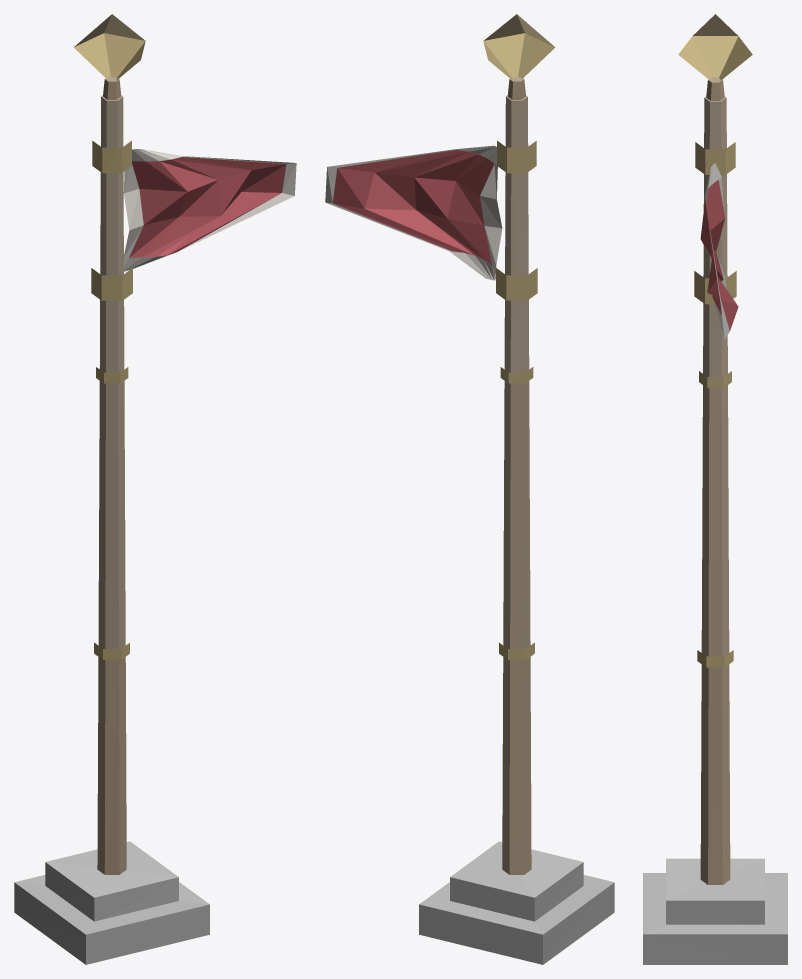
Rendered from flag.pennant.lingqi__pole.ground.gaogan__masthead.glb.
3 views of the same model, side by side, from view 1: azimuth 30°, elevation 25°; view 2: azimuth 150°, elevation 25°; view 3: azimuth 270°, elevation 25° (orthographic).
Parts seen in each view (by area): view 1: flag.pennant.lingqi; view 2: flag.pennant.lingqi; view 3: flag.pennant.lingqi.
Part boxes in pixels (x1,y1,x2,y2): flag.pennant.lingqi: (14,14,296,964); flag.pennant.lingqi: (325,14,614,964); flag.pennant.lingqi: (643,14,787,964).
Size of the model in its own units: 1.64 by 5.72 by 0.816.
